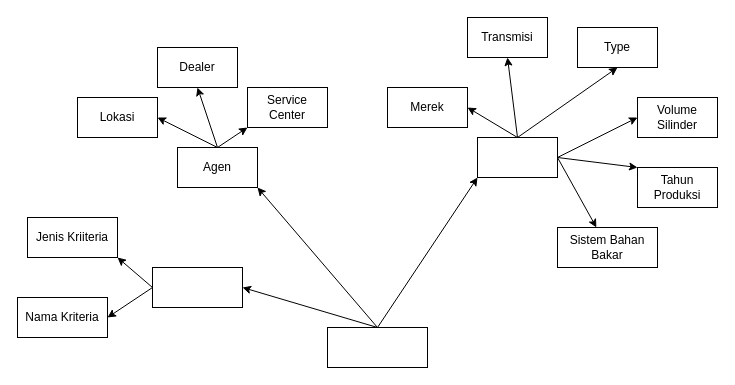
This 735x385 diagram has some shape labels left out. Each missing label, with the centre of its shape:
"Kriteria Rekomendasi" goes at (197,287).
"Motor" goes at (517,157).
"Owl Thing" goes at (377,347).
